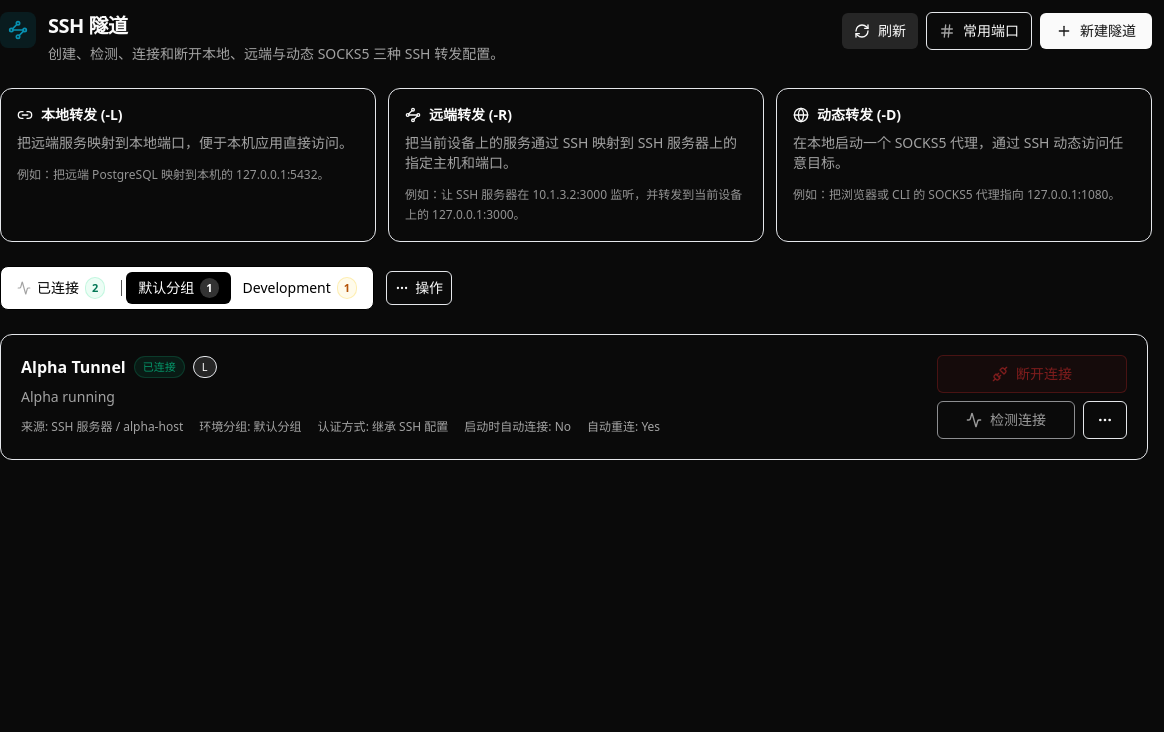
Test case: SshTunnels › 全局「已连接」胶囊按钮展示跨分组活跃隧道，并在无活跃隧道时展示专属空状态
The width and height of the screenshot is (1164, 732).
Expected: the text "Alpha Tunnel" is shown, [21,355,126,379]
Expected: the text "Beta Tunnel" is not shown
Step 1. Click the button with test id "ssh-tunnel-connected-view-tab" → (61, 288), box [5,271,117,305]
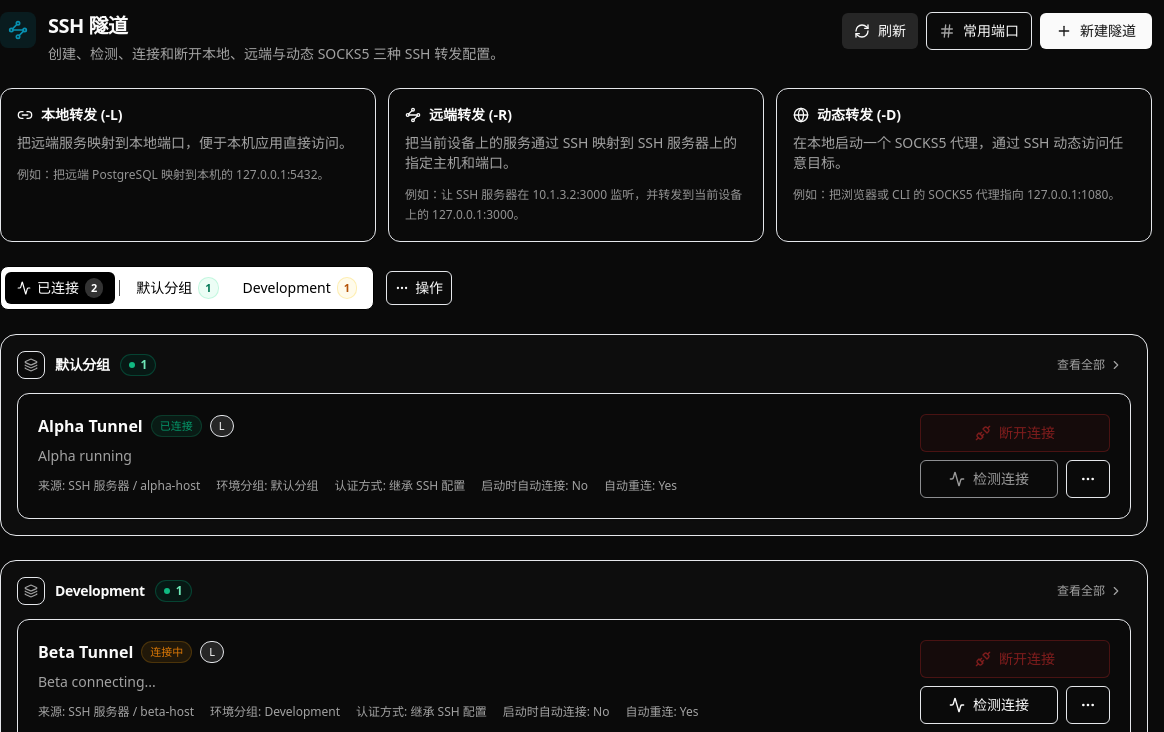
Expected: the text "Alpha Tunnel" is shown, [38,414,143,438]
Now the text "Beta Tunnel" is shown, box [38,640,133,664]
Step 2. Click the button "刷新" → (880, 31), box [842,13,918,49]
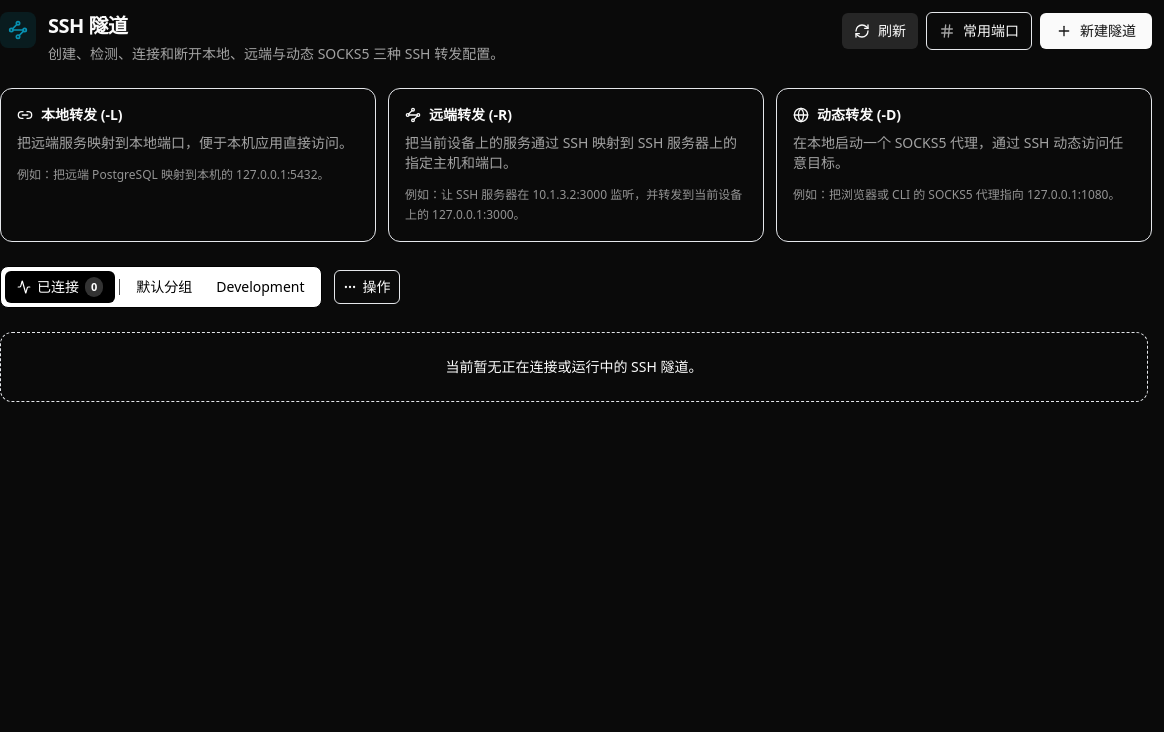
Now the text "当前暂无正在连接或运行中的 SSH 隧道。" is shown, box [446,357,702,376]
Now the button with test id "ssh-tunnel-connected-view-tab" shows "0", box [5,271,115,303]
